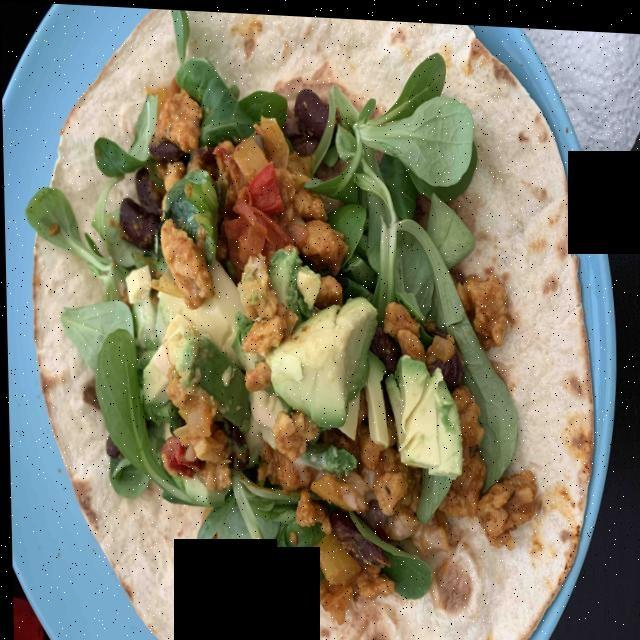avocado: (119, 253, 473, 469)
beans: (118, 132, 190, 249)
salad: (303, 37, 521, 485)
